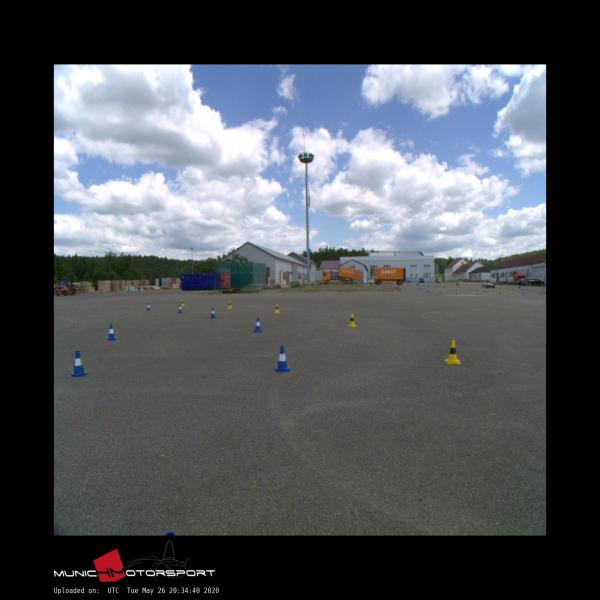blue_cone: (68, 351, 88, 376), (274, 346, 289, 371), (106, 324, 116, 339), (253, 318, 262, 332), (210, 308, 216, 318), (177, 304, 183, 313), (146, 302, 150, 311)
yellow_cone: (444, 340, 461, 364), (348, 313, 355, 327), (227, 300, 233, 309), (274, 304, 279, 312), (180, 299, 184, 306)
